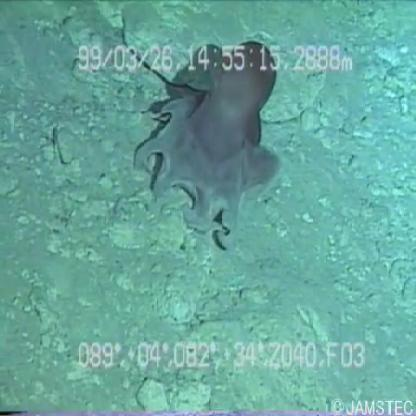Bio: (128, 37, 282, 257)
